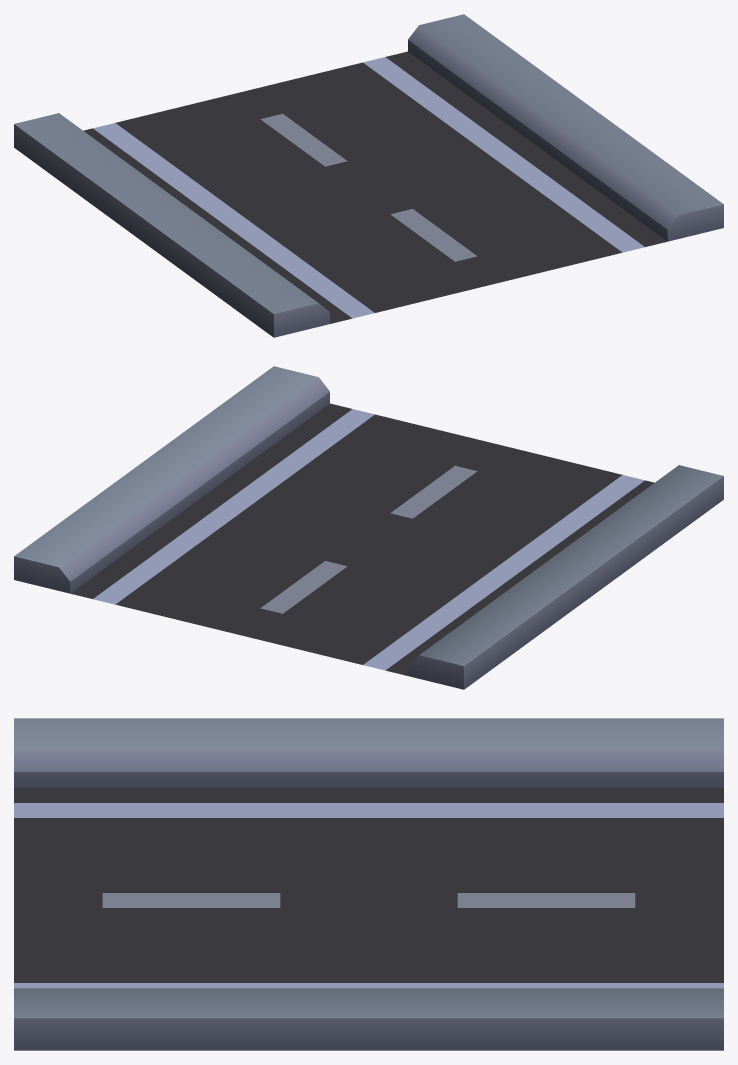
Rendered from road-straight.glb.
3 renders of one model, top to bottom at view 1: azimuth 30°, elevation 25°; view 2: azimuth 150°, elevation 25°; view 3: azimuth 270°, elevation 25°, orthographic. The views are drawn at different scales.
Visible parts, largest first — view 1: road-straight; view 2: road-straight; view 3: road-straight.
Part boxes in pixels (bbox=[...]): road-straight: bbox=[14, 14, 723, 337]; road-straight: bbox=[14, 366, 723, 689]; road-straight: bbox=[14, 718, 723, 1050].
Size of the model in its own units: 1 by 0.0501 by 1.
Materials: 1 (1 with a texture image).
